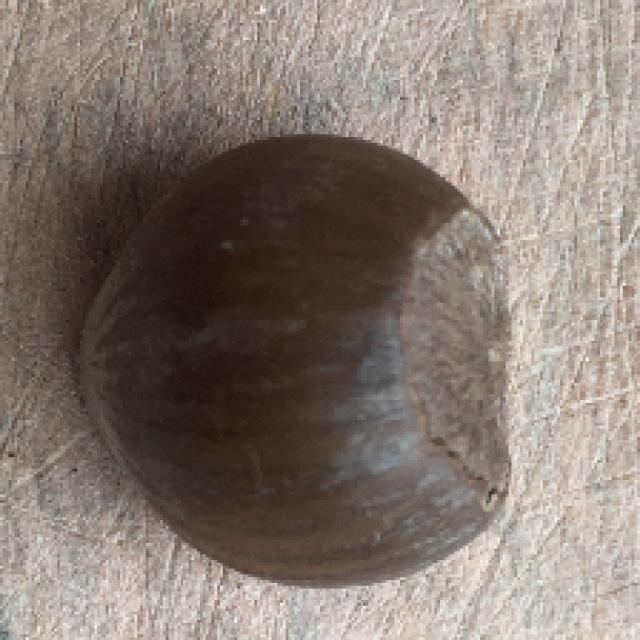DamagedHazelnut: (70, 131, 524, 588)
